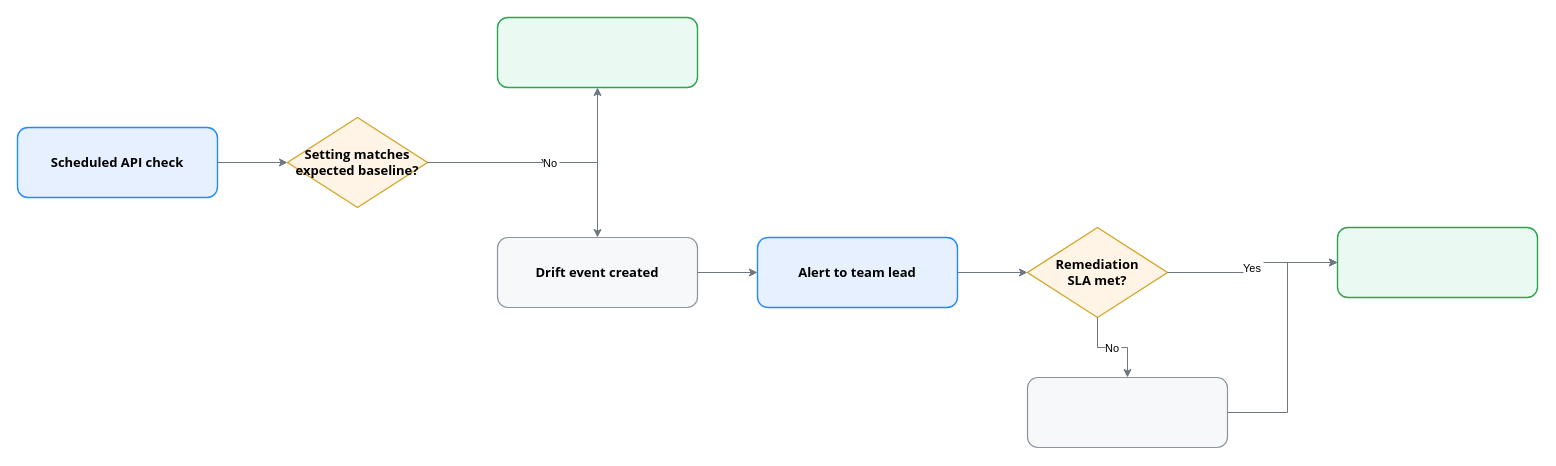
Image size: 1556x466. Some labels were removed from this diagram. The shapes that lost their labels are listed below. From the top down, each one's centre as x and y in pixels, then its label:
the point at 597,52: Log: compliant
the point at 1437,262: Drift resolved
the point at 1127,412: Escalation to Platform Team lead
